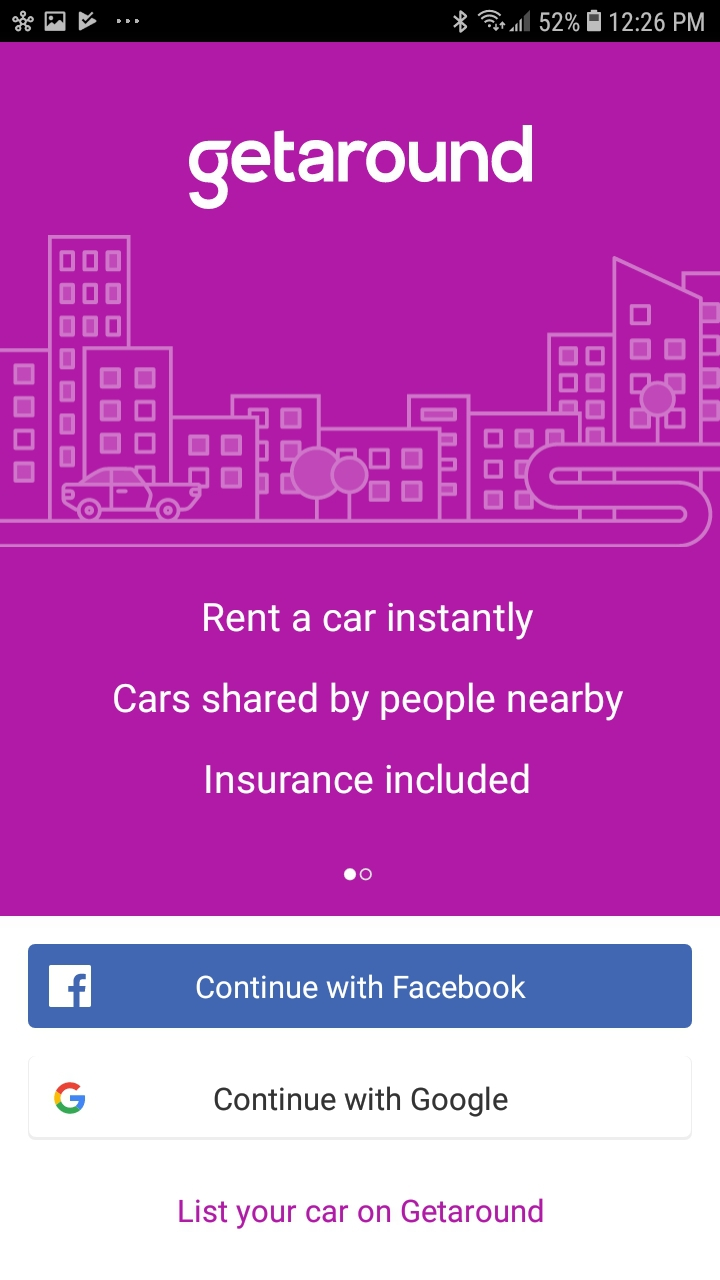Image: (1, 235, 719, 546)
PageIndicator: (344, 867, 374, 882)
Text: (115, 604, 623, 795), (190, 126, 532, 210), (180, 1199, 544, 1229)
TextButton: (28, 944, 692, 1028), (29, 1056, 692, 1139)
UpperTaskBar: (1, 1, 720, 42)
